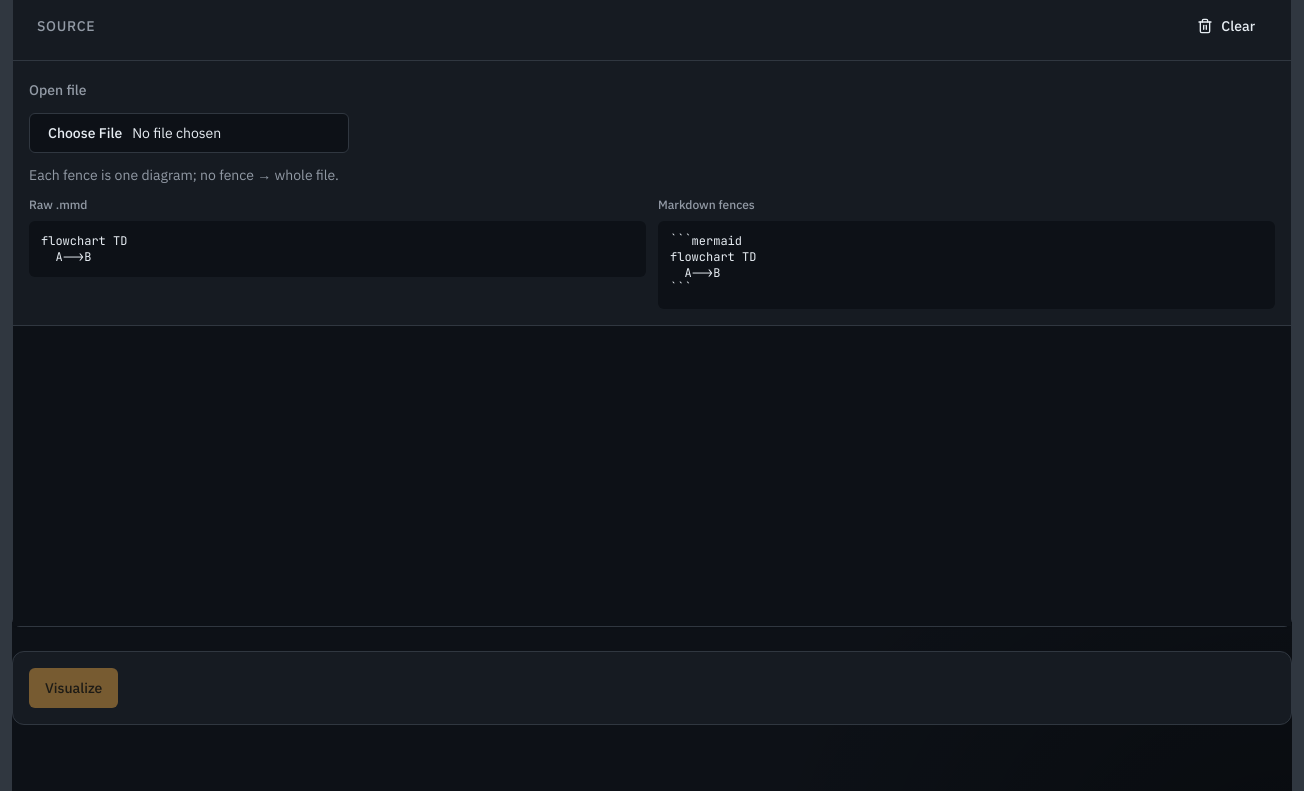
Test case: MermaidTool › hides Download with color when colorize reports colored false
Type "pie" into the text box named "Mermaid source" at (652, 476), box [13,326,1291,626]
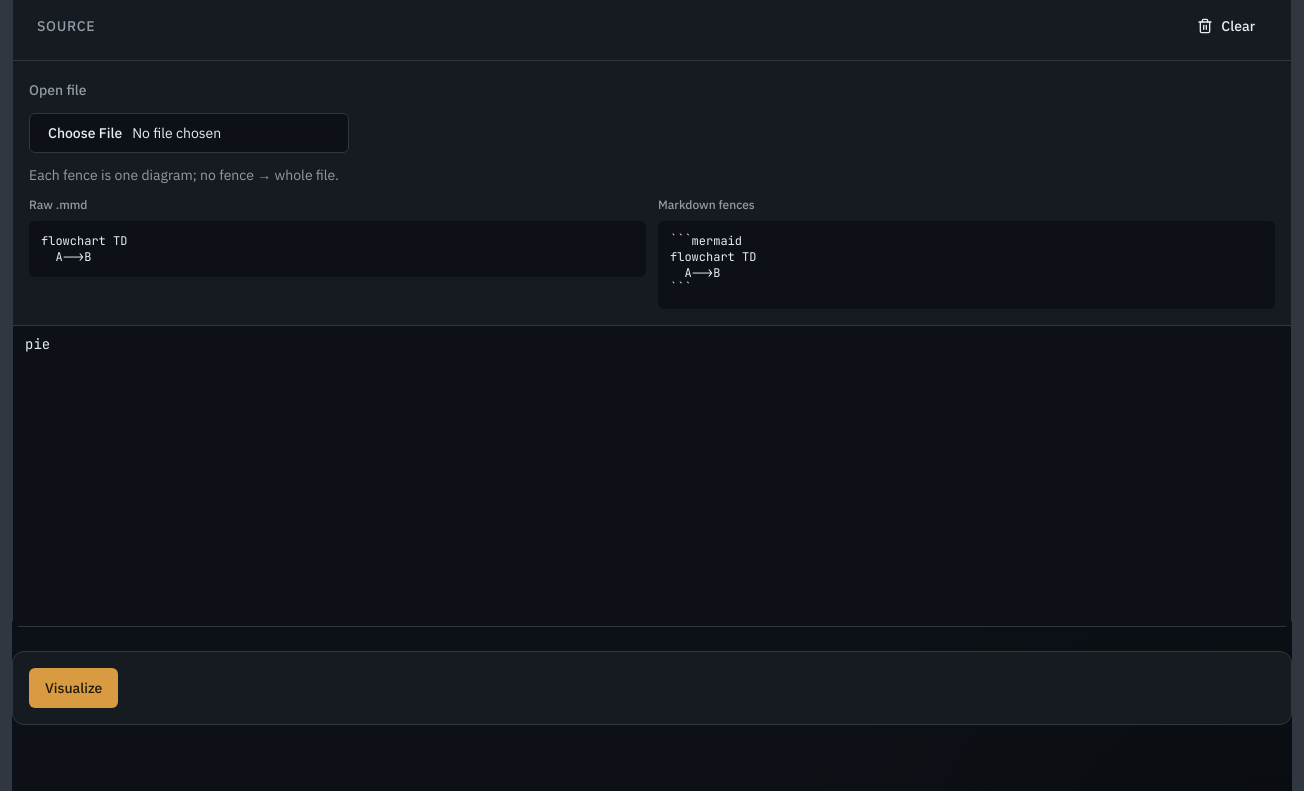
Click the button "Visualize" at (74, 688), box [29,668,118,708]
(page scrolled)
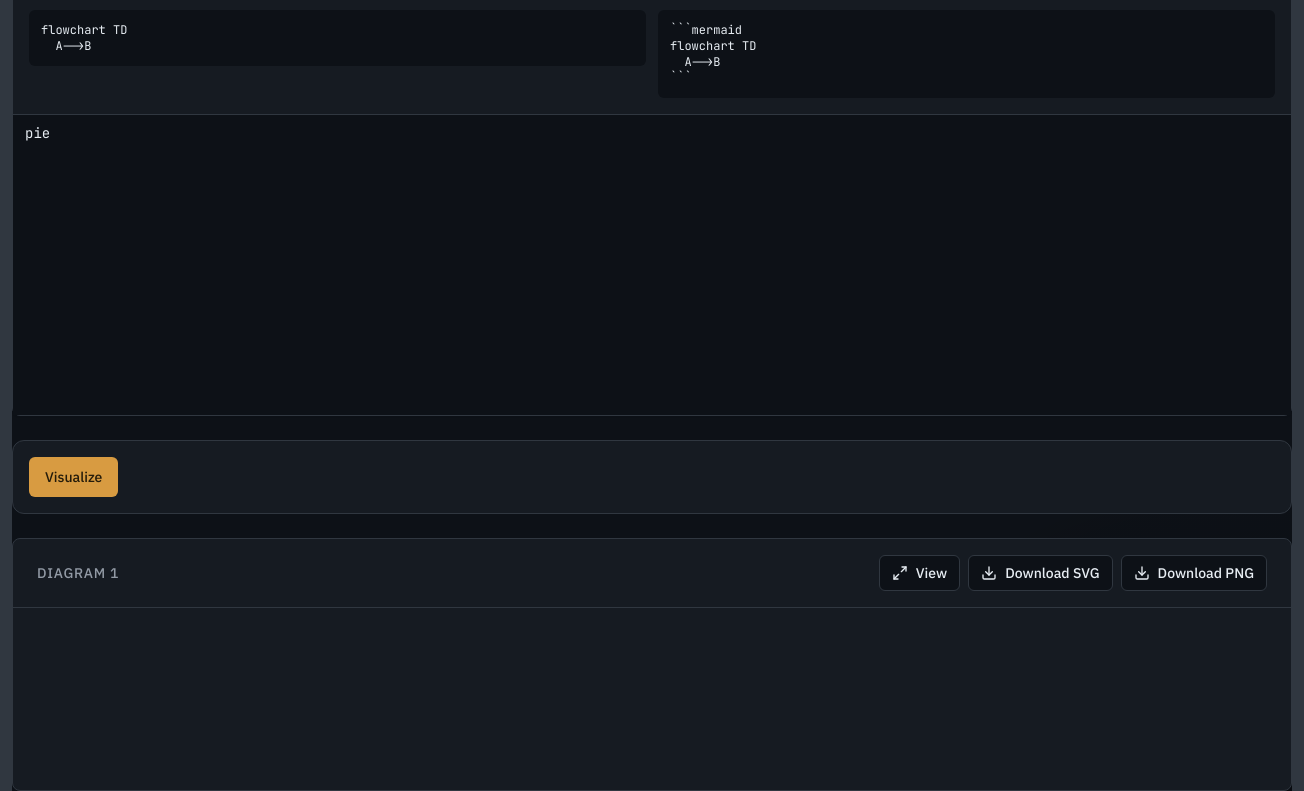
expect the button "Download SVG" is shown: met, box [968,555,1113,591]
